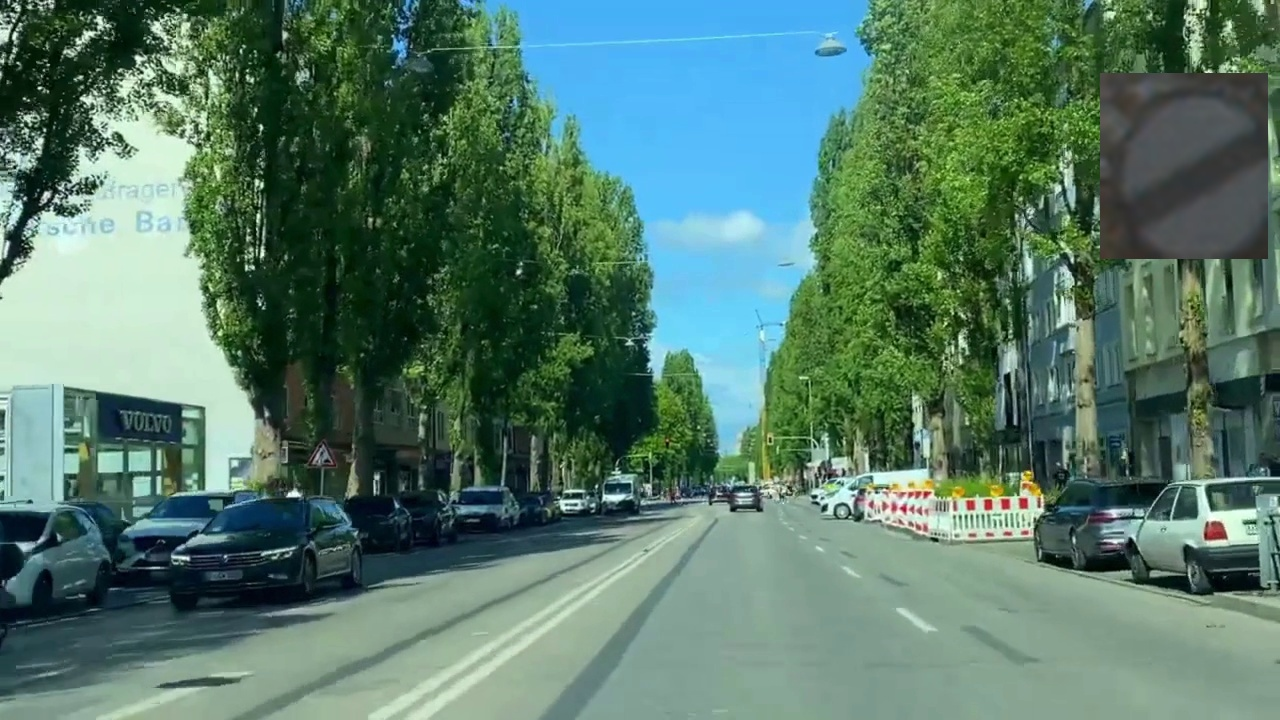End limits: (1100, 73, 1268, 259)
